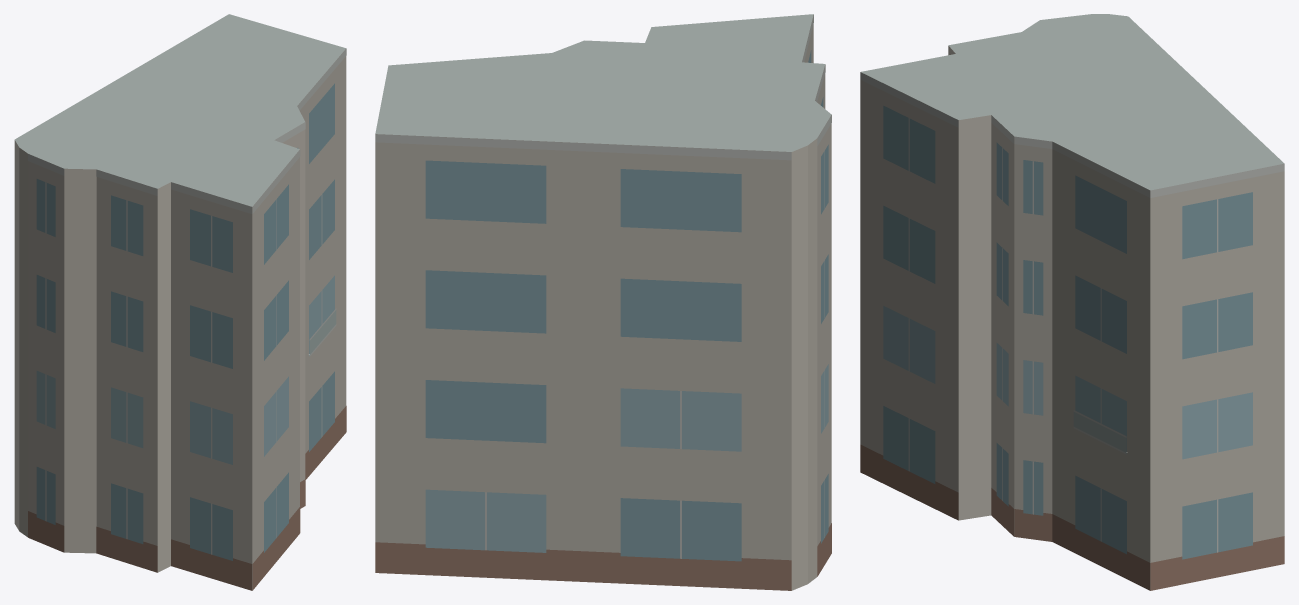
Rendered from survey-upis-32511989.glb.
3 views of the same model, side by side, from view 1: azimuth 30°, elevation 25°; view 2: azimuth 150°, elevation 25°; view 3: azimuth 270°, elevation 25° (orthographic). The views are drawn at different scales.
Visible parts, largest first — view 1: survey-upis-32511989.tmp; view 2: survey-upis-32511989.tmp; view 3: survey-upis-32511989.tmp.
Part boxes in pixels (bbox=[...]): survey-upis-32511989.tmp: bbox=[14, 14, 346, 590]; survey-upis-32511989.tmp: bbox=[375, 14, 831, 590]; survey-upis-32511989.tmp: bbox=[860, 14, 1284, 590].
Size of the model in its own units: 12.11 by 12.8 by 12.3.
